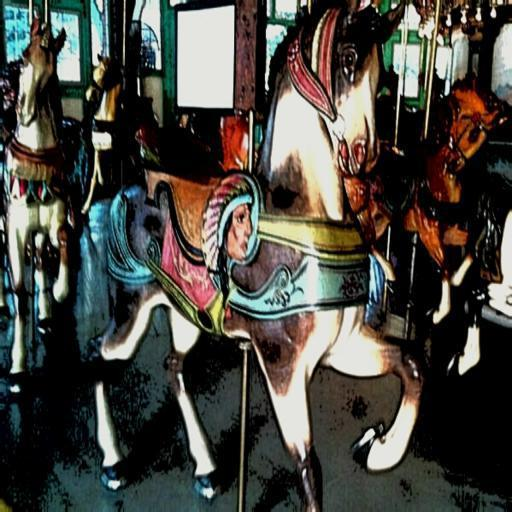horse: (73, 0, 425, 511), (0, 14, 68, 392), (398, 89, 498, 326), (82, 52, 157, 214)
